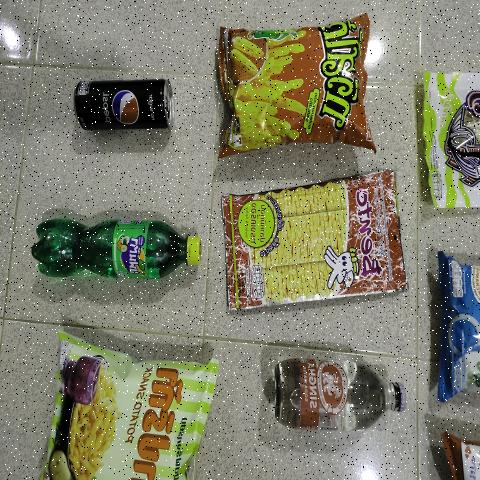bento_red: (217, 171, 399, 317)
fanta_green: (30, 211, 206, 287)
paprika: (28, 321, 228, 480)
pepsi_black: (66, 69, 178, 130)
singha_soda: (256, 355, 408, 430)
twisco: (213, 17, 372, 141)
